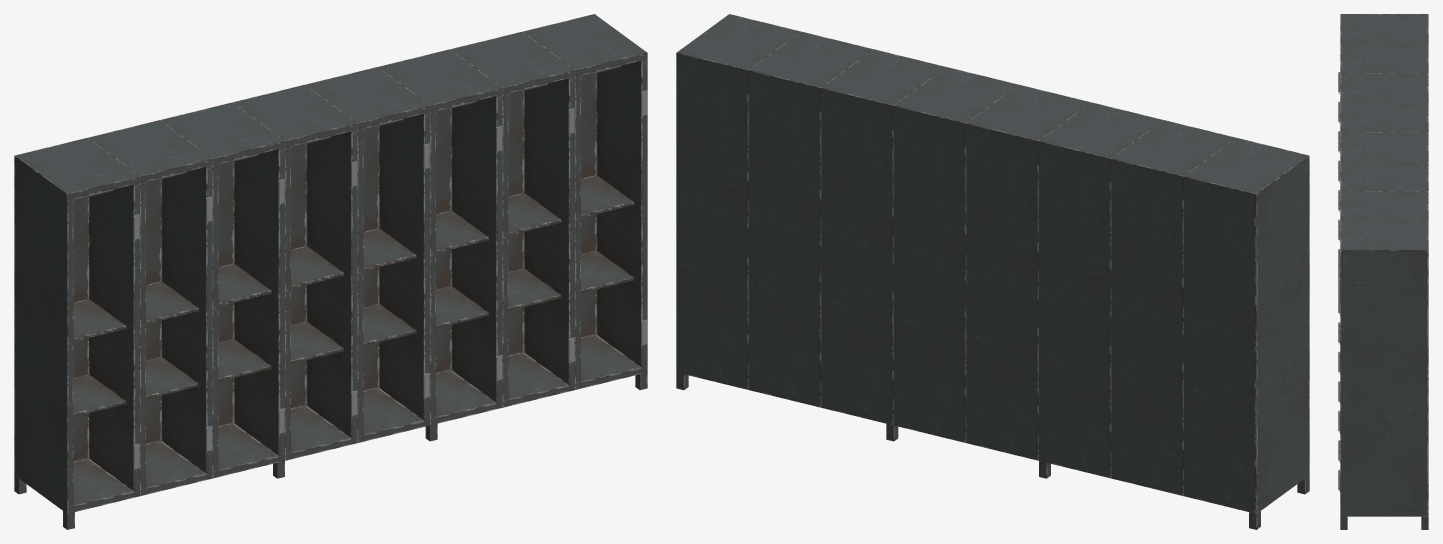
The model's file is SM_Locker_02_Locker_02.fbx.
The picture shows the model from 3 angles, left to right: view 1: azimuth 30°, elevation 25°; view 2: azimuth 150°, elevation 25°; view 3: azimuth 270°, elevation 25°; orthographic projection. The views are drawn at different scales.
Visible parts, largest first — view 1: SM_Locker_02_Locker_02; view 2: SM_Locker_02_Locker_02; view 3: SM_Locker_02_Locker_02.
Boxes of the visible parts, x1,y1,x2,y2 form: SM_Locker_02_Locker_02: (14, 14, 647, 529); SM_Locker_02_Locker_02: (676, 14, 1309, 529); SM_Locker_02_Locker_02: (1338, 14, 1428, 529).
Bounding box in the file's own units: 418 × 67.55 × 231.
1 material, 1 textured.
